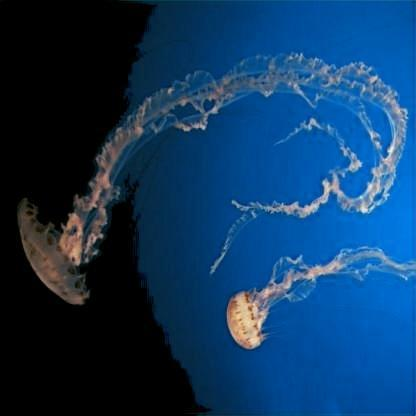Mosaic: (17, 65, 403, 305), (225, 248, 411, 350)
